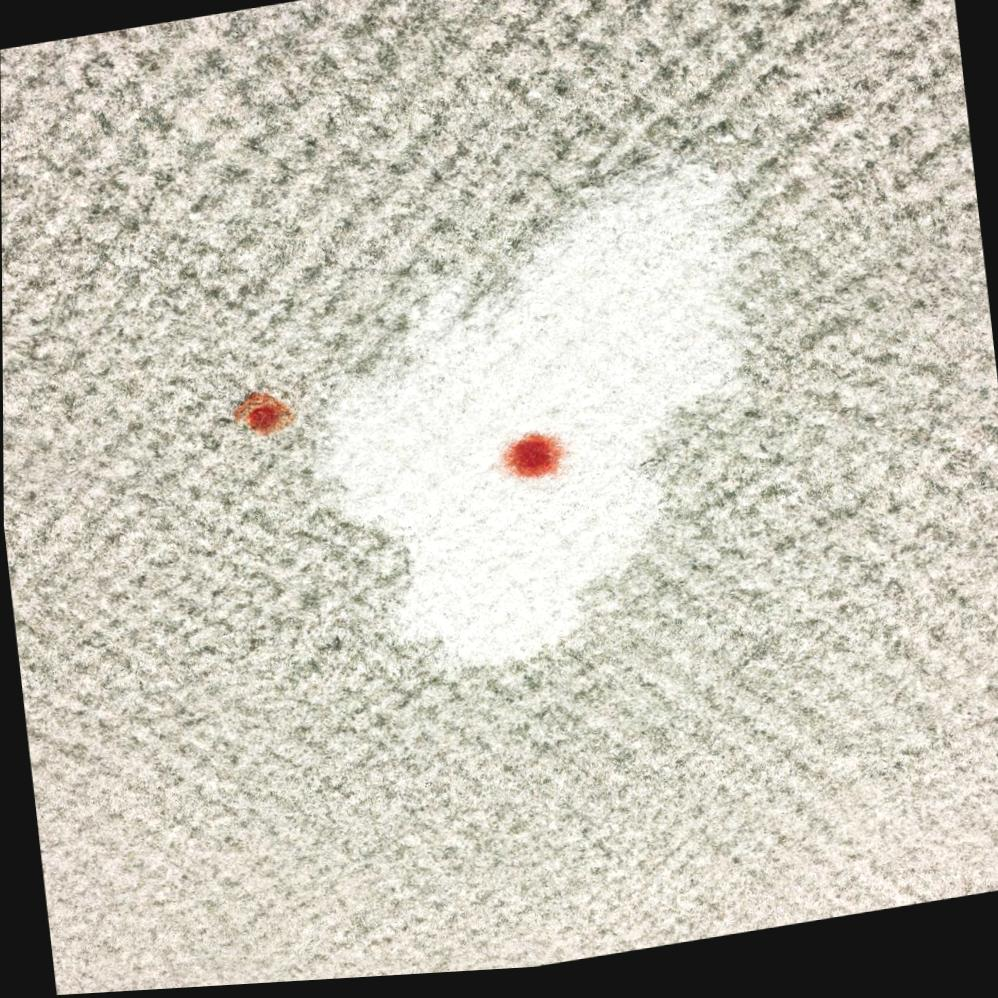Fire: (499, 440, 562, 485), (234, 396, 295, 441)
